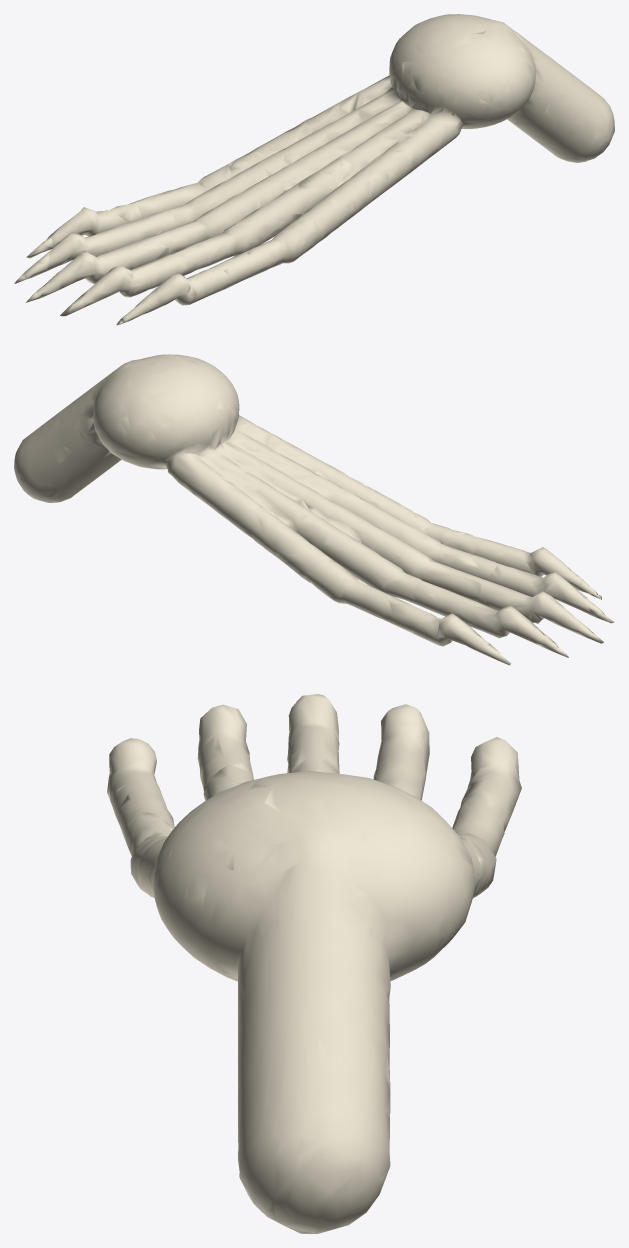
Rendered from hindpaw_l.glb.
3 renders of one model, top to bottom at view 1: azimuth 30°, elevation 25°; view 2: azimuth 150°, elevation 25°; view 3: azimuth 270°, elevation 25°, orthographic. The views are drawn at different scales.
Parts seen in each view (by area): view 1: geometry_0; view 2: geometry_0; view 3: geometry_0.
Boxes of the visible parts, <box> form: geometry_0: <box>14,14,614,325</box>; geometry_0: <box>14,354,614,665</box>; geometry_0: <box>107,694,521,1233</box>.
Size of the model in its own units: 0.7153 by 0.2023 by 0.2199.
